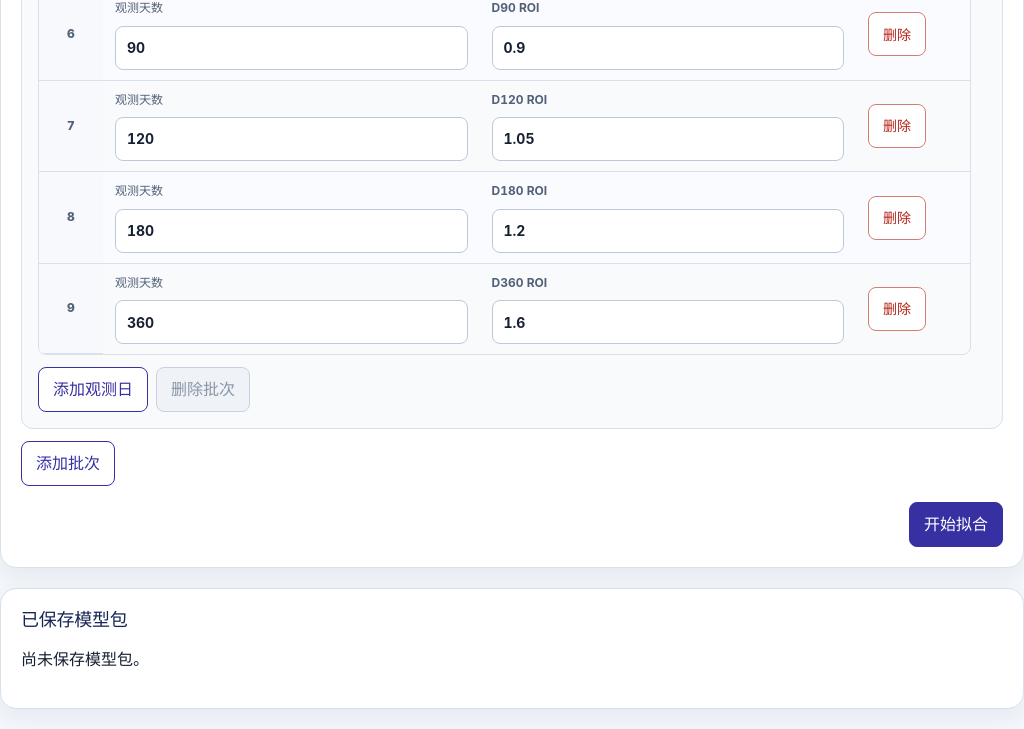
fit workspace › adds and removes historical cohorts while keeping the final cohort
This screenshot has width=1024, height=729.
(page scrolled)
Expected: the button "删除批次" is disabled, [156,368,250,412]
Click the button "添加批次" at (68, 464), box [21,441,115,486]
(page scrolled)
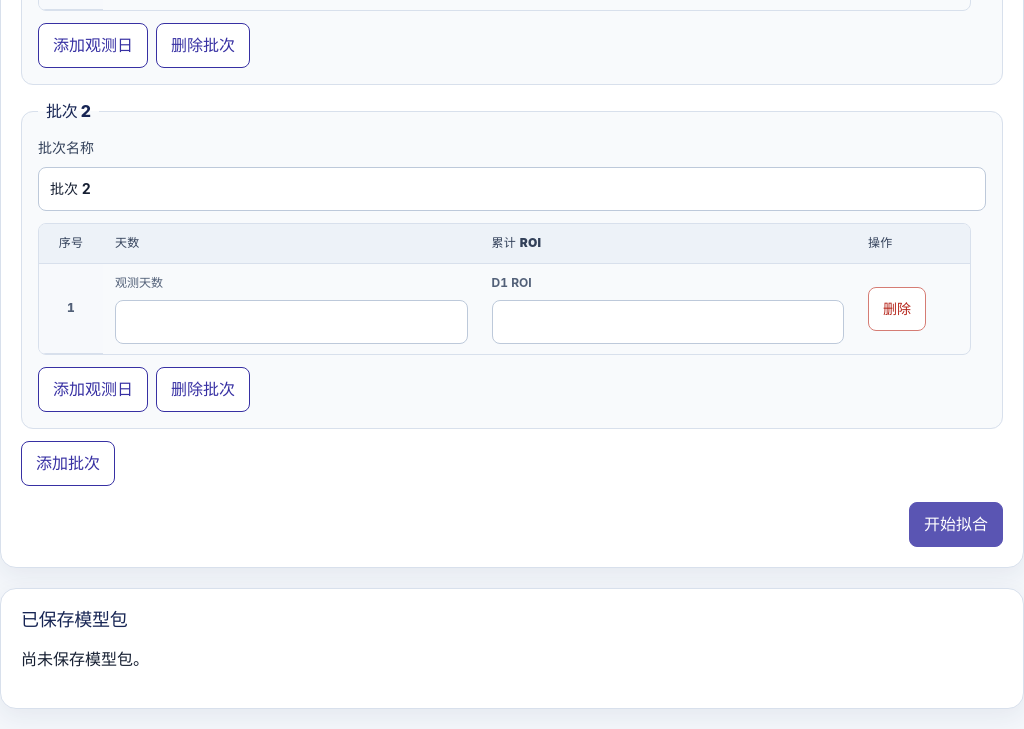
Now the number of fields labelled "批次名称" is 2
Now the element "批次 2" is shown, box [21,101,1003,429]
Click the button with aria-label "删除批次 批次 2" at (203, 390), box [156,367,250,412]
(page scrolled)
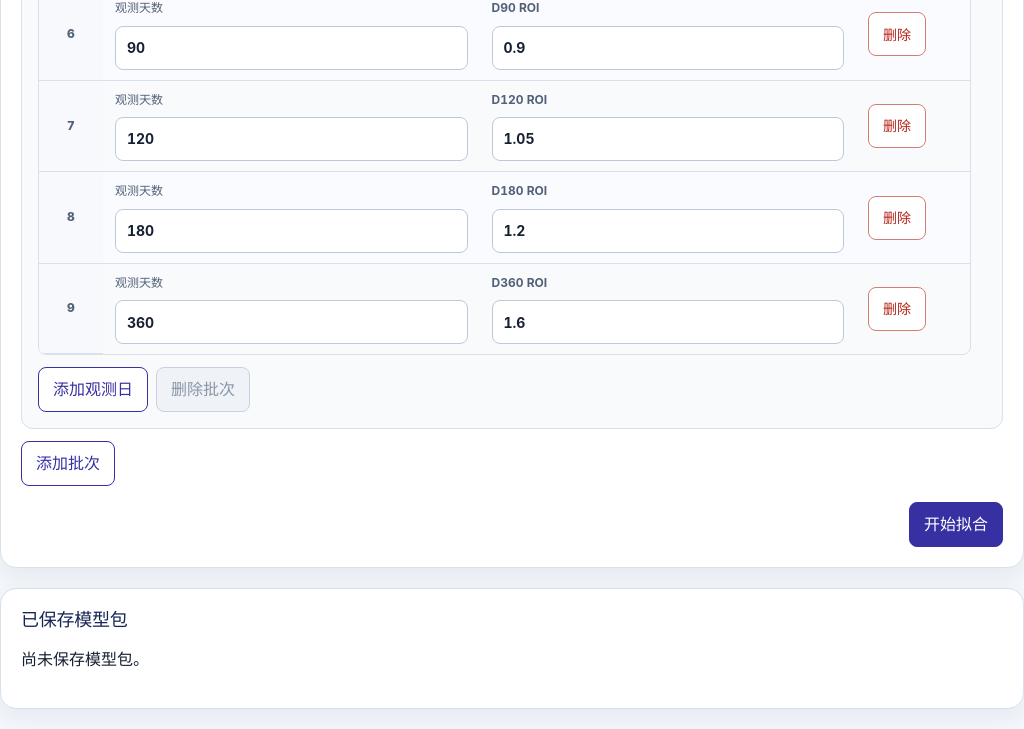
Now the button "删除批次" is disabled, box [156,368,250,412]
